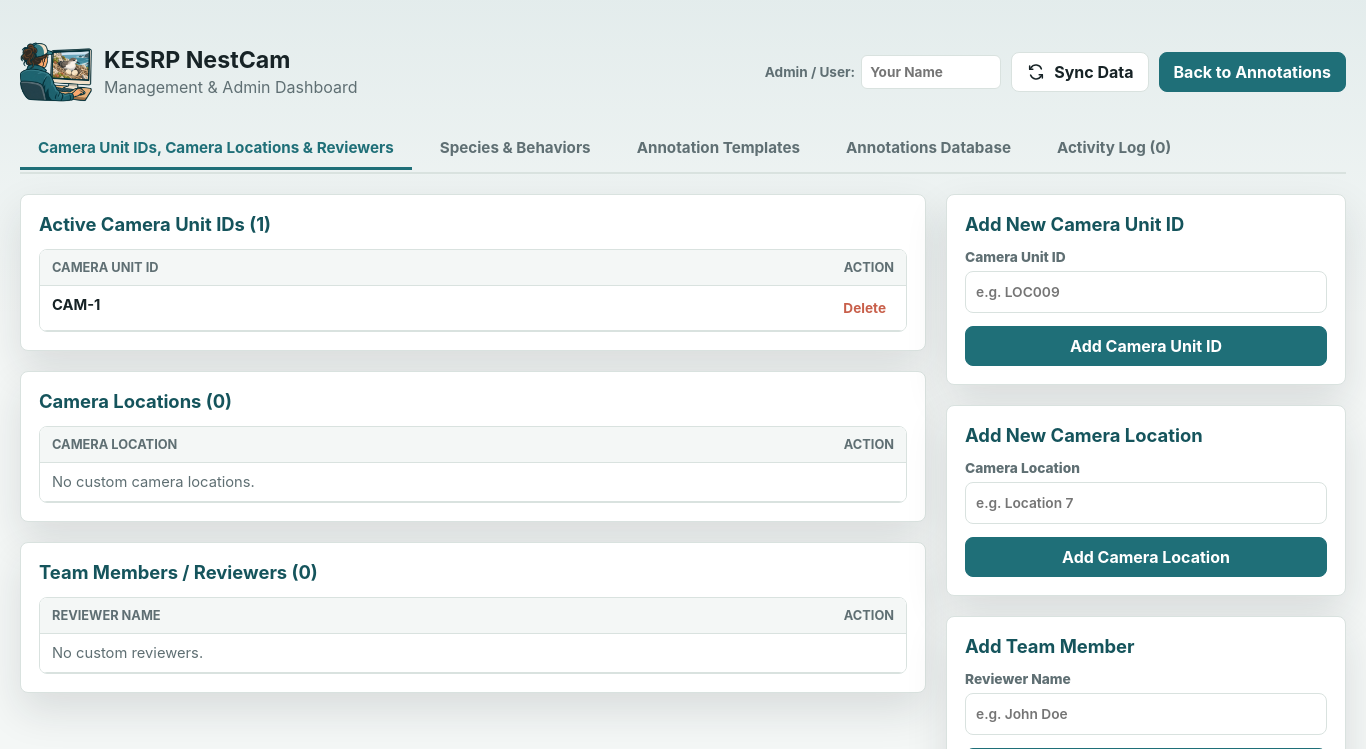
Test: reloads management data after reconnect without clearing an unfinished entry
Check: the text "CAM-1" is shown, box [52,296,100,314]
Step 1. Type "Draft camera" into the field with placeholder "e.g. LOC009" → [1146, 292], box [965,271,1327,313]
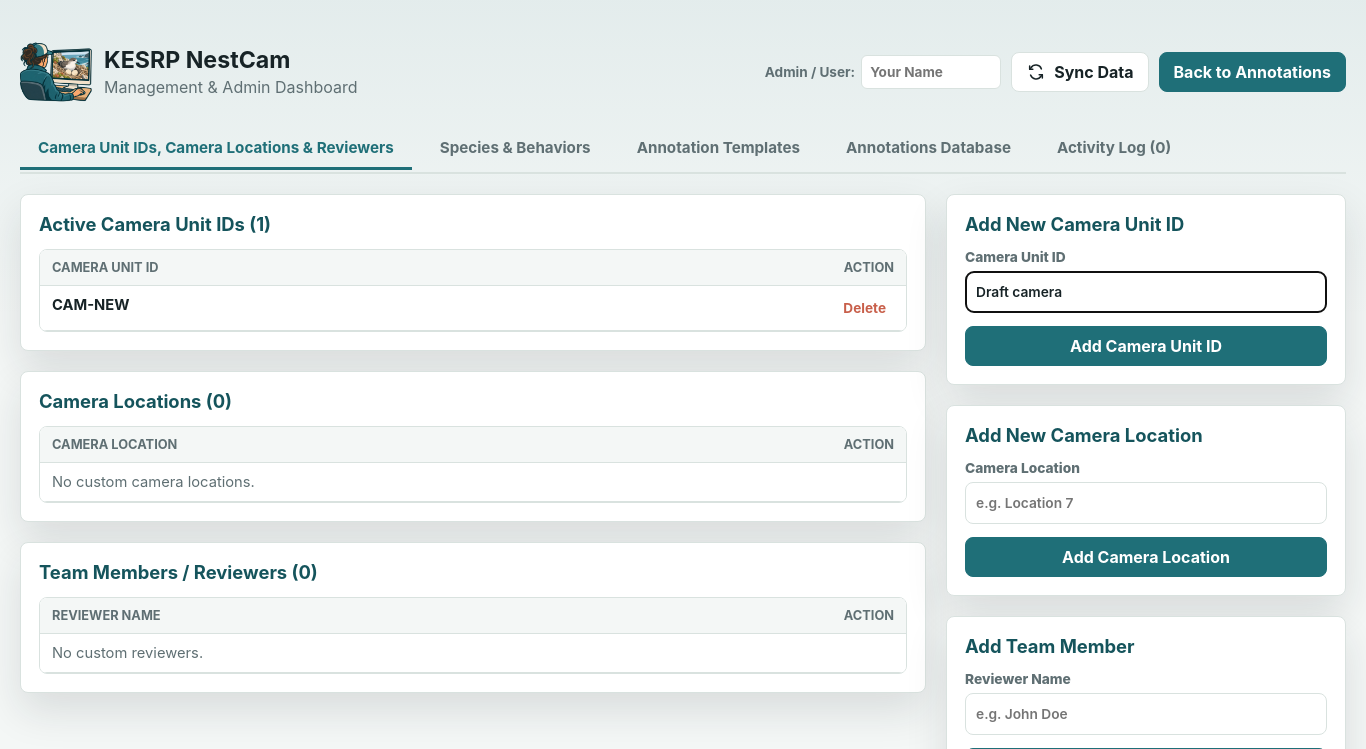
Check: the text "CAM-NEW" is shown, box [52,296,130,314]
